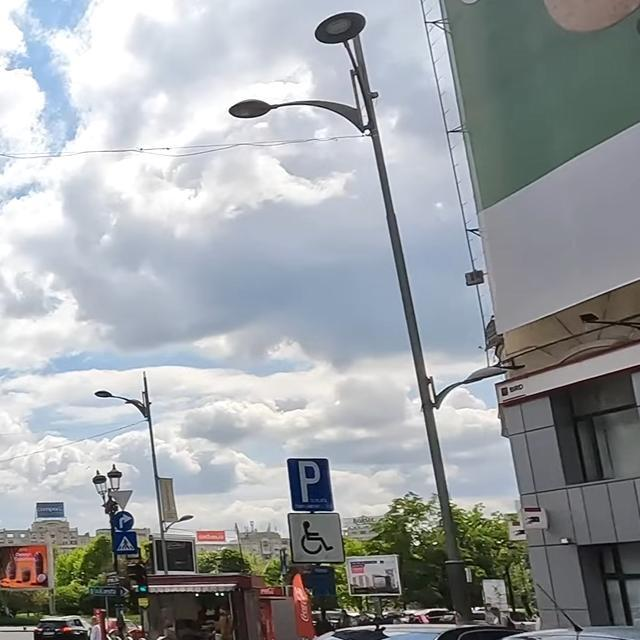info_crosswalk: (113, 531, 138, 553)
prio_give_way: (110, 491, 134, 511)
